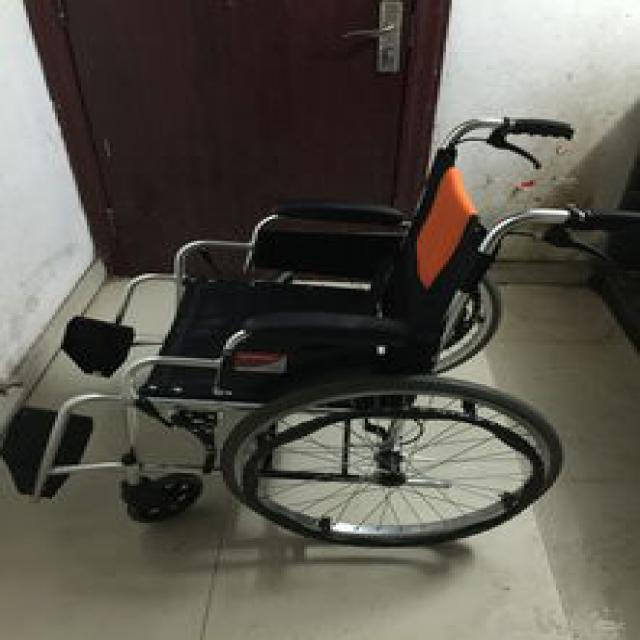wheelchair: (0, 108, 620, 625)
